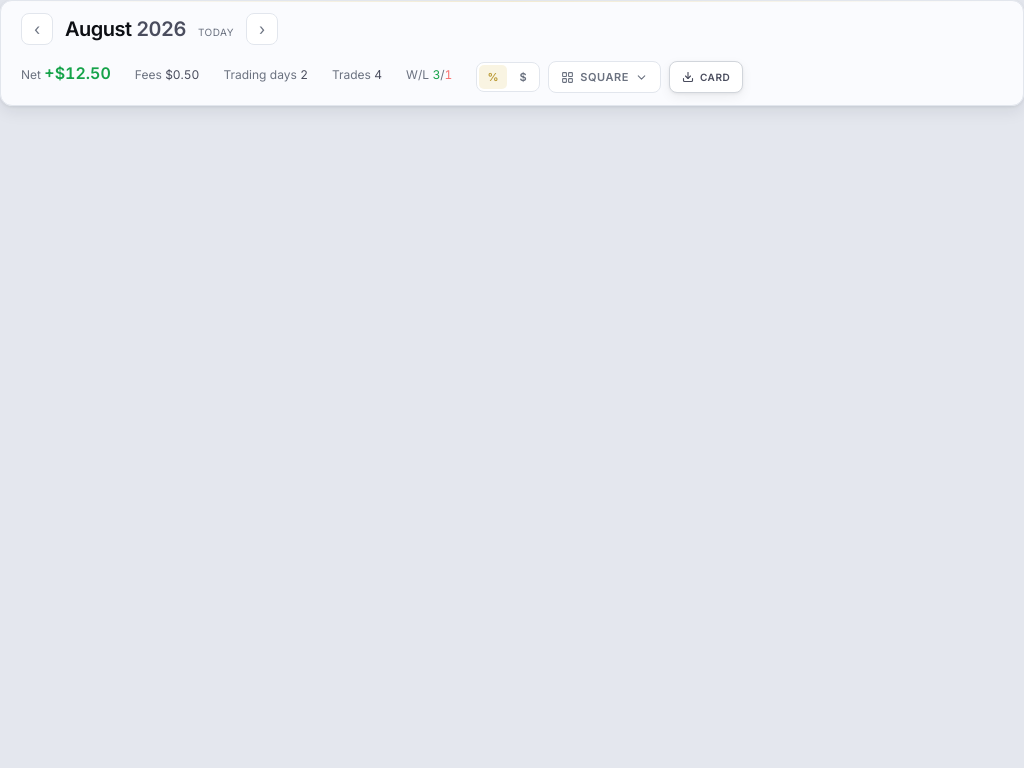
it: T4 clicking outside closes it › the backdrop dismisses
Click the button with test id "card-format-button".
click(605, 77)  # box [548,61,661,93]
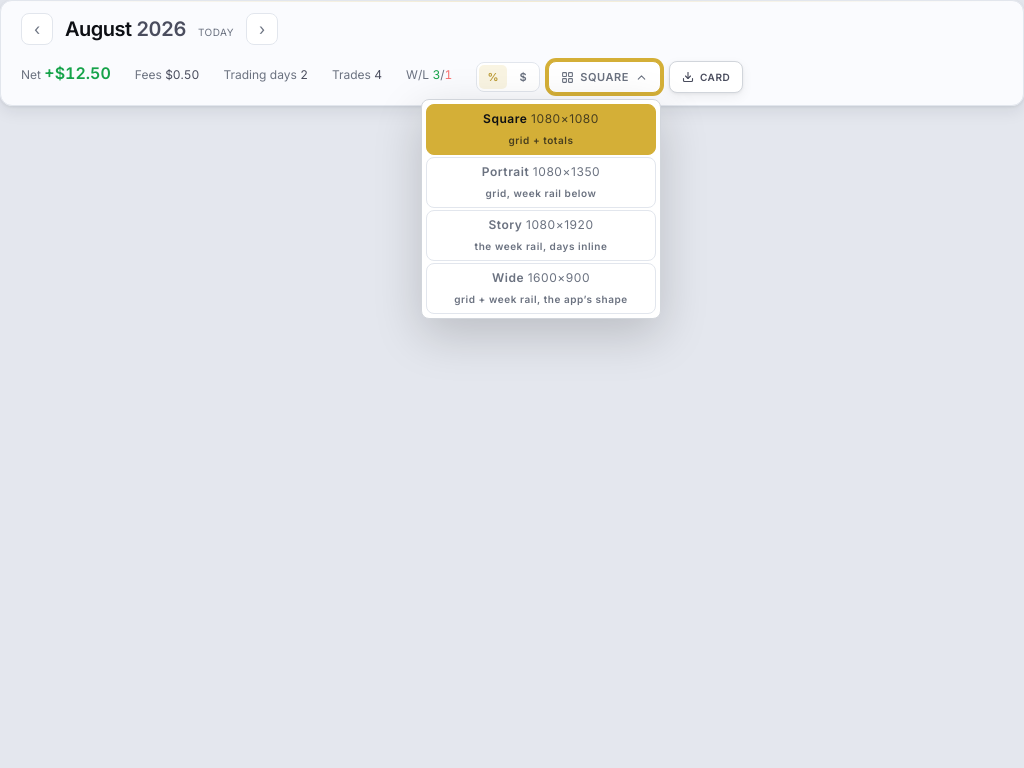
Check: the menu with test id "card-format-menu" is shown, box [421,99,661,319]
Click the element with test id "card-format-backdrop".
click(512, 384)  # box [0,0,1023,767]
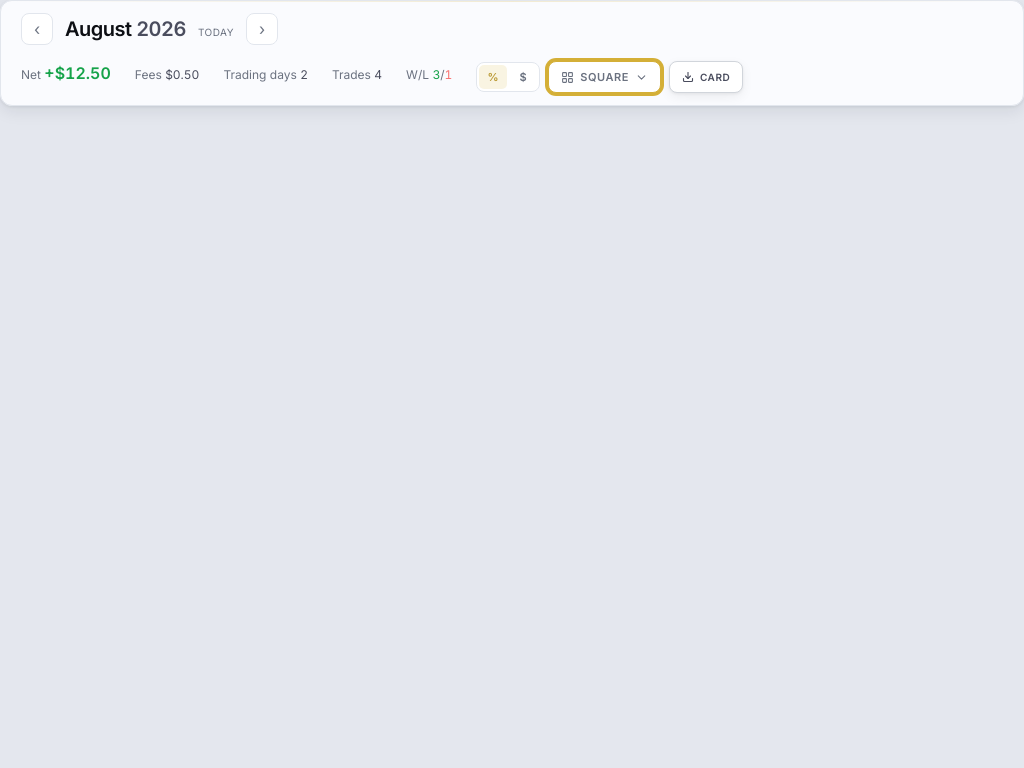
Check: the menu with test id "card-format-menu" is gone
